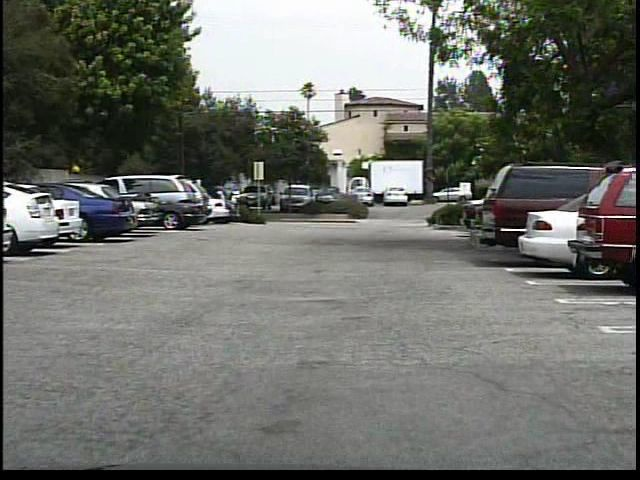person: (213, 187, 230, 219), (226, 192, 240, 221), (223, 190, 235, 219)
